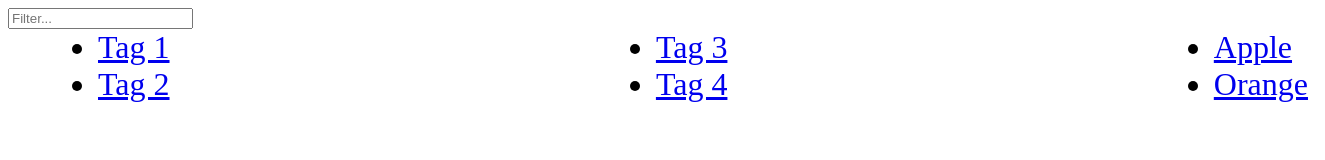
Test: TagsList › filters tags based on input value
Step 1. Type "tag" into the field with placeholder "Filter..." → (100, 18), box [8,8,193,29]
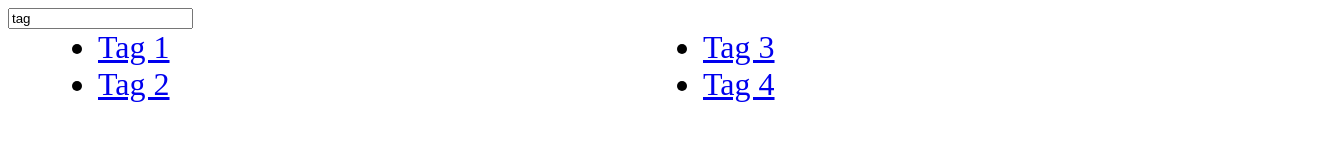
Expected: the link "Tag 1" is shown, [98,29,170,65]
Expected: the number of links is 4, [98,29,170,65]; [98,66,170,102]; [703,29,774,65]; [703,66,774,102]
